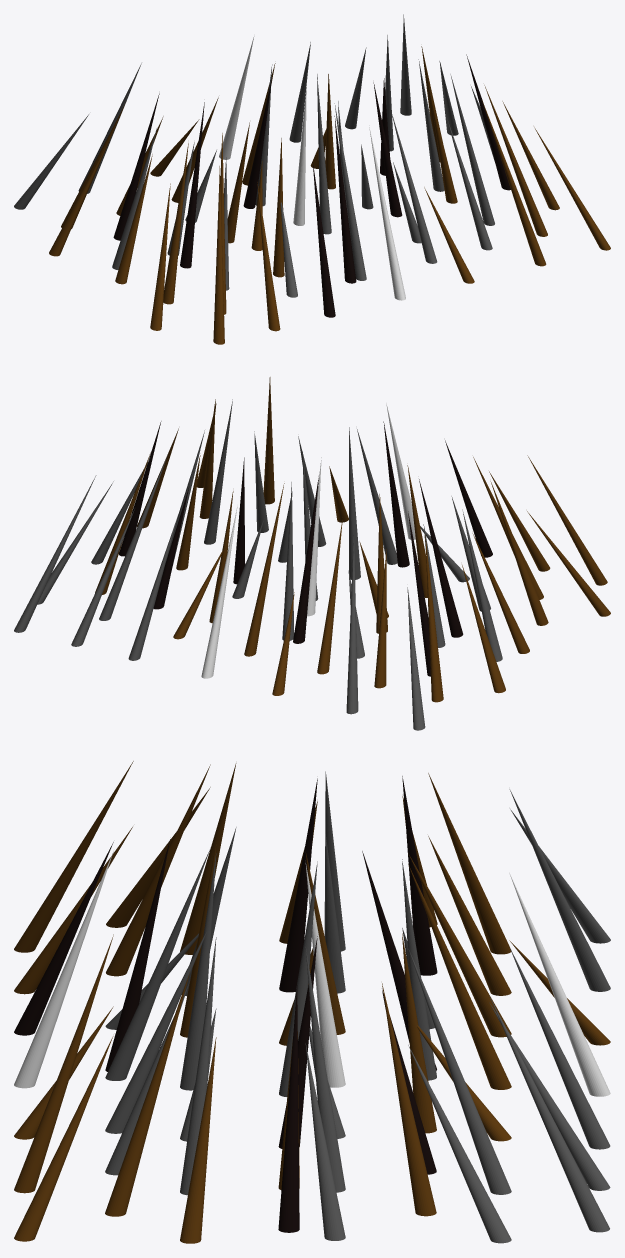
The model's file is kolce1.fbx.
3 renders of one model, top to bottom at view 1: azimuth 30°, elevation 25°; view 2: azimuth 150°, elevation 25°; view 3: azimuth 270°, elevation 25°, orthographic. The views are drawn at different scales.
Visible parts, largest first — view 1: stożek.063, stożek.053, stożek.060, stożek.038, stożek.051, stożek.057, stożek.047, stożek.061, stożek.037, stożek.050, stożek.041, stożek.048 (+36 smaller); view 2: stożek.025, stożek.028, stożek.021, stożek.016, stożek.012, stożek.038, stożek.022, stożek.031, stożek.018, stożek.047, stożek.051, stożek.024 (+38 smaller); view 3: stożek.057, stożek.022, stożek.032, stożek.048, stożek.031, stożek.060, stożek.015, stożek.053, stożek.021, stożek.028, stożek.044, stożek.056 (+38 smaller).
Part boxes in pixels (left/top/right/bottom): stożek.063: left=213, top=166, right=224, bottom=344; stożek.053: left=334, top=103, right=366, bottom=280; stożek.060: left=369, top=125, right=405, bottom=300; stożek.038: left=180, top=102, right=204, bottom=268; stożek.051: left=334, top=116, right=356, bottom=283; stożek.057: left=482, top=100, right=546, bottom=266; stożek.047: left=163, top=143, right=188, bottom=304; stożek.061: left=312, top=161, right=335, bottom=317; stożek.037: left=317, top=74, right=331, bottom=234; stożek.050: left=391, top=112, right=437, bottom=263; stożek.041: left=450, top=74, right=494, bottom=225; stożek.048: left=484, top=85, right=547, bottom=236; stożek.025: left=346, top=535, right=358, bottom=714; stożek.028: left=201, top=506, right=237, bottom=678; stożek.021: left=244, top=483, right=284, bottom=656; stożek.016: left=425, top=535, right=443, bottom=702; stożek.012: left=293, top=476, right=318, bottom=643; stożek.038: left=419, top=479, right=463, bottom=637; stożek.022: left=99, top=455, right=167, bottom=620; stożek.031: left=14, top=475, right=96, bottom=632; stożek.018: left=317, top=517, right=342, bottom=674; stożek.047: left=490, top=481, right=548, bottom=625; stożek.051: left=383, top=421, right=409, bottom=567; stożek.024: left=407, top=587, right=425, bottom=730; stożek.057: left=14, top=934, right=113, bottom=1193; stożek.022: left=408, top=948, right=511, bottom=1194; stożek.032: left=278, top=985, right=299, bottom=1232; stożek.048: left=105, top=972, right=189, bottom=1216; stożek.031: left=489, top=995, right=609, bottom=1232; stożek.060: left=14, top=851, right=113, bottom=1088; stożek.015: left=382, top=983, right=436, bottom=1216; stożek.053: left=105, top=850, right=209, bottom=1080; stożek.021: left=408, top=864, right=511, bottom=1089; stożek.028: left=509, top=872, right=610, bottom=1096; stożek.044: left=180, top=853, right=216, bottom=1090; stożek.056: left=14, top=1036, right=113, bottom=1241.
Bounding box in the file's own units: 11721 × 3963 × 9161.
